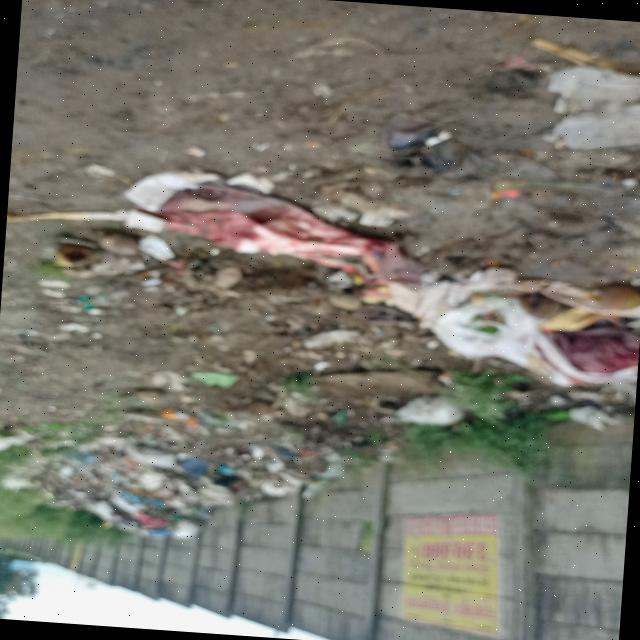garbage: (87, 157, 640, 423), (25, 344, 415, 545)
